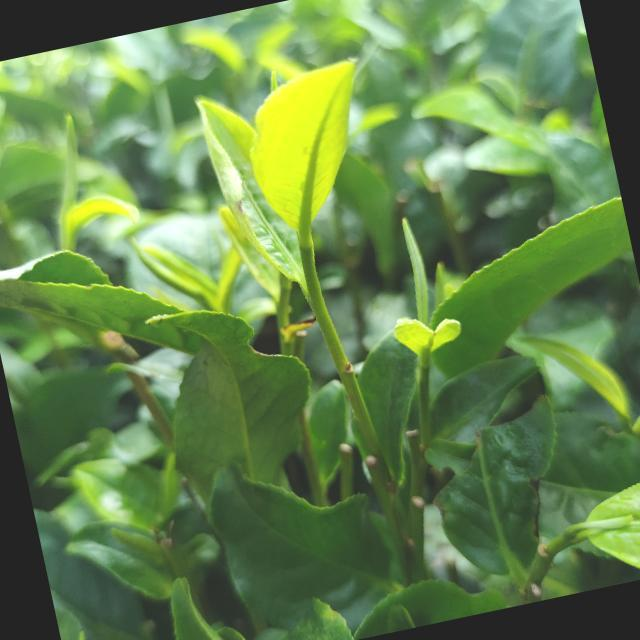Stem: (308, 292, 336, 337)
